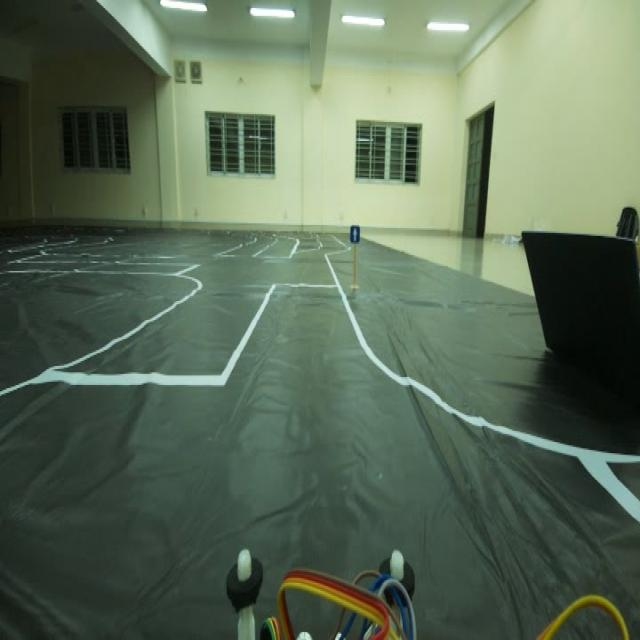onewayroad: (346, 220, 365, 247)
